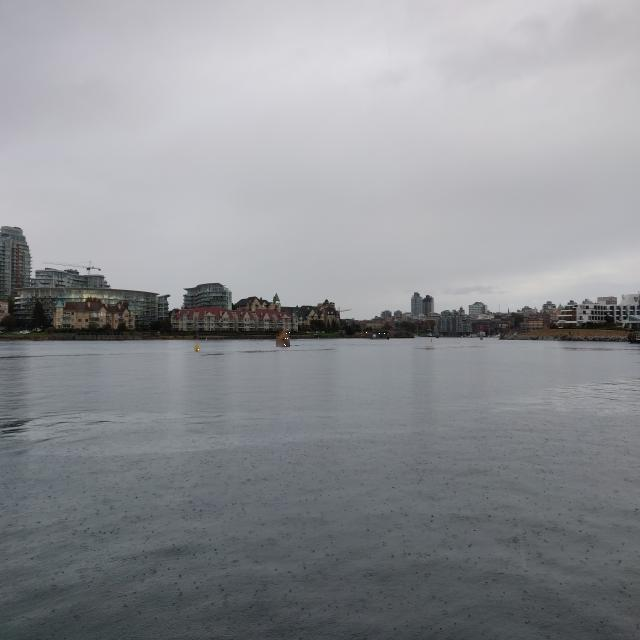aircraft: (361, 332, 389, 340)
boat: (276, 331, 290, 347)
mark: (194, 344, 200, 352), (480, 325, 483, 340), (436, 328, 438, 338), (430, 338, 432, 342), (205, 337, 207, 340)
